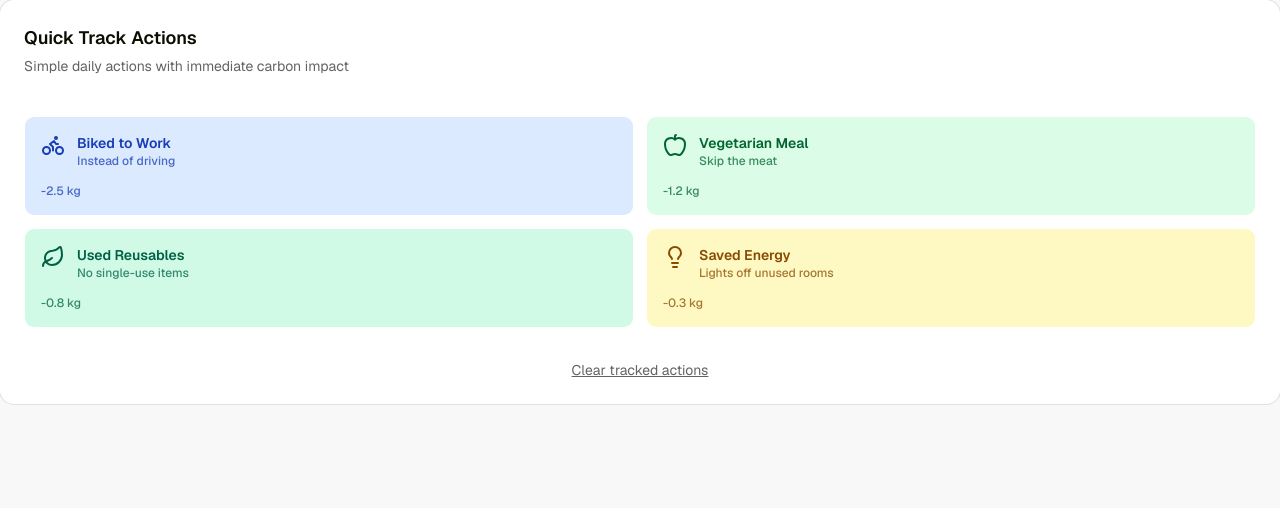
QuickTrack Component › tracks a clicked action and shows savings summary
The width and height of the screenshot is (1280, 508).
Click the button labelled "Biked to Work Instead of driving -2.5 kg": (124, 143) [24,116,634,216]
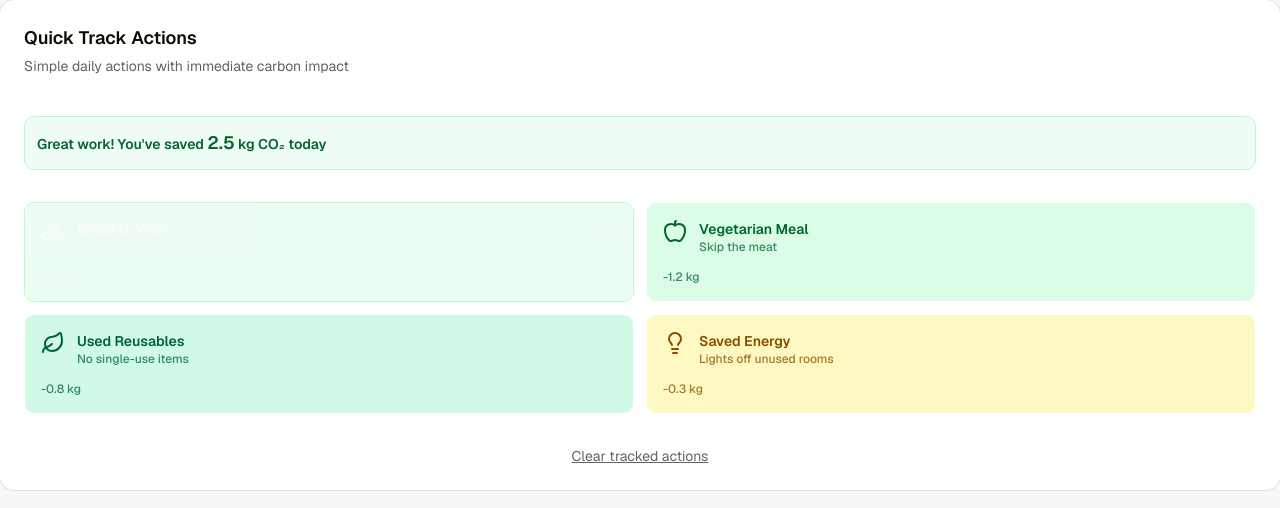
Result: the text "Great work! You've saved 2.5 kg CO₂ today" is shown at [37,131,326,154]
Result: the text "2.5" is shown at [207,131,235,154]
